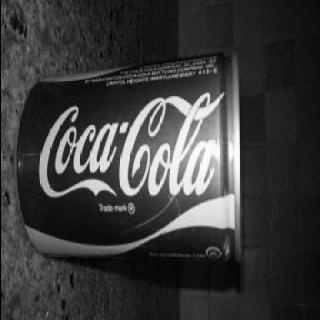alumunium_can: (14, 46, 247, 270)
